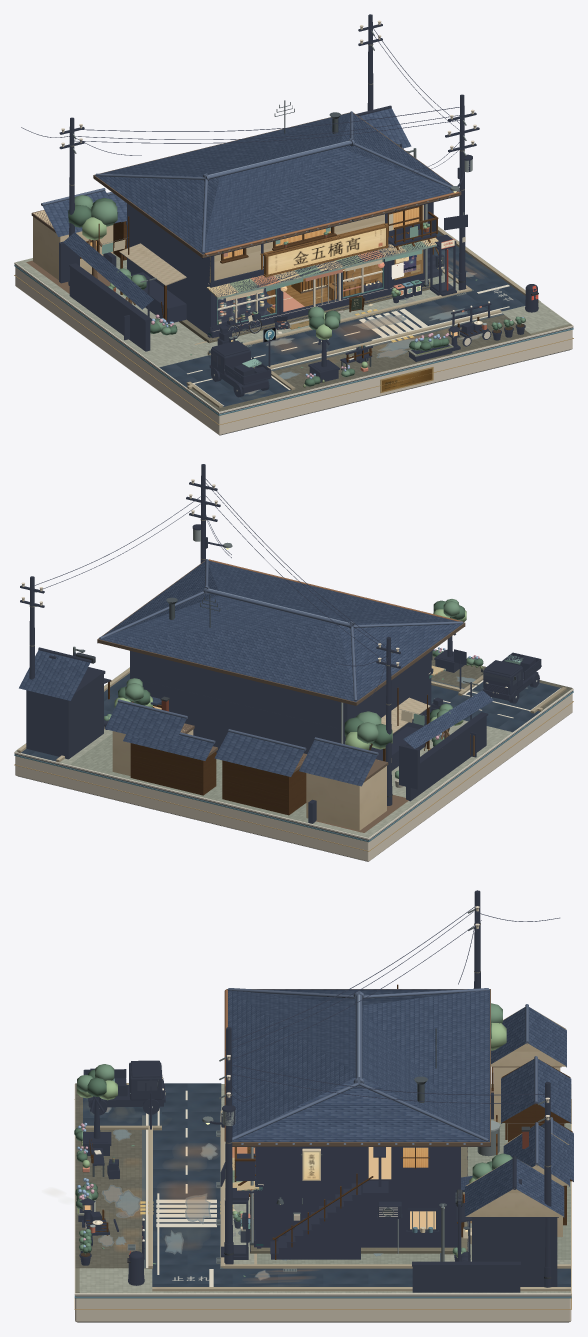
The model's file is shop1980.glb.
3 views of the same model, one above another, from view 1: azimuth 30°, elevation 25°; view 2: azimuth 150°, elevation 25°; view 3: azimuth 270°, elevation 25° (orthographic). The views are drawn at different scales.
Visible parts, largest first — view 1: merged-static-batch (×21), source-outline (×4), collector-plinth, near-walk, main-sign, awning, sway-tree-1, base, merged-transparent-batch, west-lean-to, shop-foundation, shop-floor (+4 smaller); view 2: merged-static-batch (×15), source-outline (×3), collector-plinth, sway-tree-1, base, near-walk, sway-tree-2, west-lean-to, sway-tree-0, roof; view 3: merged-static-batch (×21), source-outline (×3), collector-plinth, near-walk, merged-transparent-batch (×2), base, shop-foundation, sway-tree-0, wet-road-reflection, shop, sway-tree-1.
Boxes of the visible parts, x1,y1,x2,y2 form: merged-static-batch (×21): (14,26,573,435); source-outline (×4): (59,14,538,397); collector-plinth: (15,267,572,435); near-walk: (189,315,531,410); main-sign: (263,223,388,277); awning: (207,237,438,299); sway-tree-1: (68,195,117,278); base: (14,265,573,415); merged-transparent-batch: (244,272,482,394); west-lean-to: (119,243,186,285); shop-foundation: (179,281,433,343); shop-floor: (267,264,382,313); merged-static-batch (×15): (14,477,573,861); source-outline (×3): (20,464,541,823); collector-plinth: (15,693,572,861); sway-tree-1: (344,711,392,750); base: (14,691,573,842); near-walk: (431,656,572,709); sway-tree-2: (114,678,152,707); west-lean-to: (381,697,430,733); sway-tree-0: (433,599,466,622); roof: (209,559,463,621); merged-static-batch (×21): (74,906,573,1322); source-outline (×3): (78,890,558,1292); collector-plinth: (75,1296,571,1322); near-walk: (75,1083,147,1268); merged-transparent-batch (×2): (98,1107,382,1280); base: (74,1268,571,1298); shop-foundation: (250,1147,467,1254); sway-tree-0: (77,1064,117,1100); wet-road-reflection: (168,1147,213,1199); shop: (257,1148,320,1190); sway-tree-1: (491,1003,506,1050).
Size of the model in its own units: 18.32 by 10.69 by 20.32.
222 materials, 75 textured.
